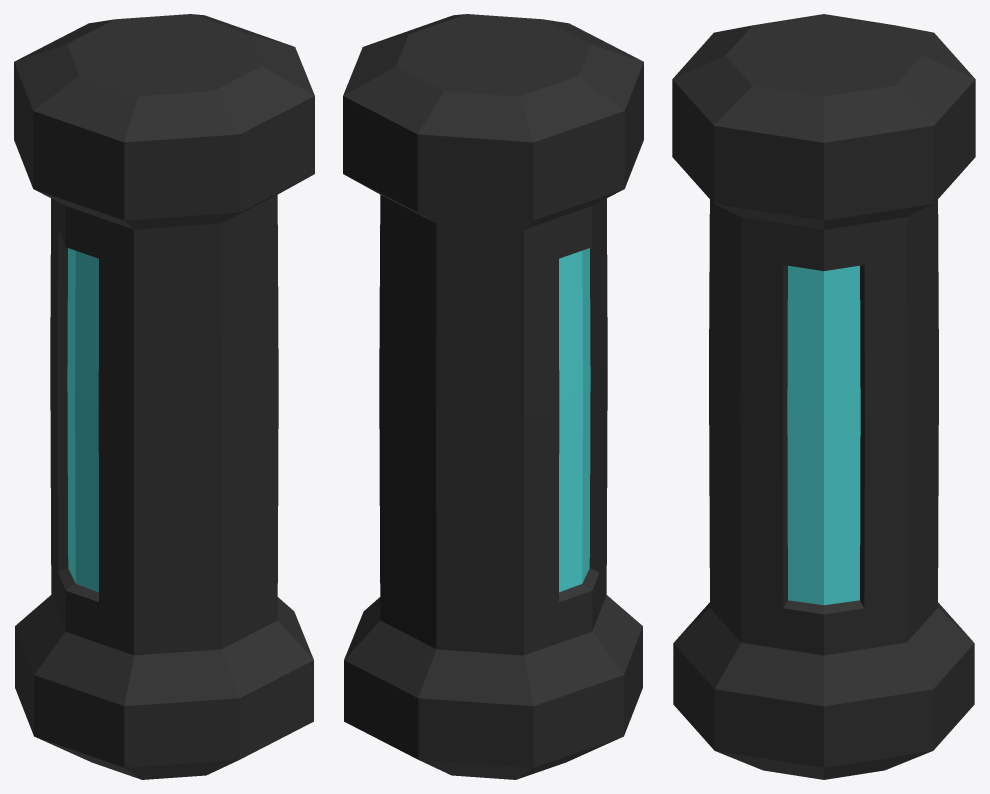
File: PraedatumFlashBangGameWorld.glb
3 views of the same model, side by side, from view 1: azimuth 30°, elevation 25°; view 2: azimuth 150°, elevation 25°; view 3: azimuth 270°, elevation 25° (orthographic).
Parts seen in each view (by area): view 1: MainBody; view 2: MainBody; view 3: MainBody.
Boxes of the visible parts, x1,y1,x2,y2 form: MainBody: [14, 14, 314, 779]; MainBody: [343, 14, 643, 779]; MainBody: [672, 14, 975, 779].
Bounding box in the file's own units: 1.52 × 3.83 × 1.52.
